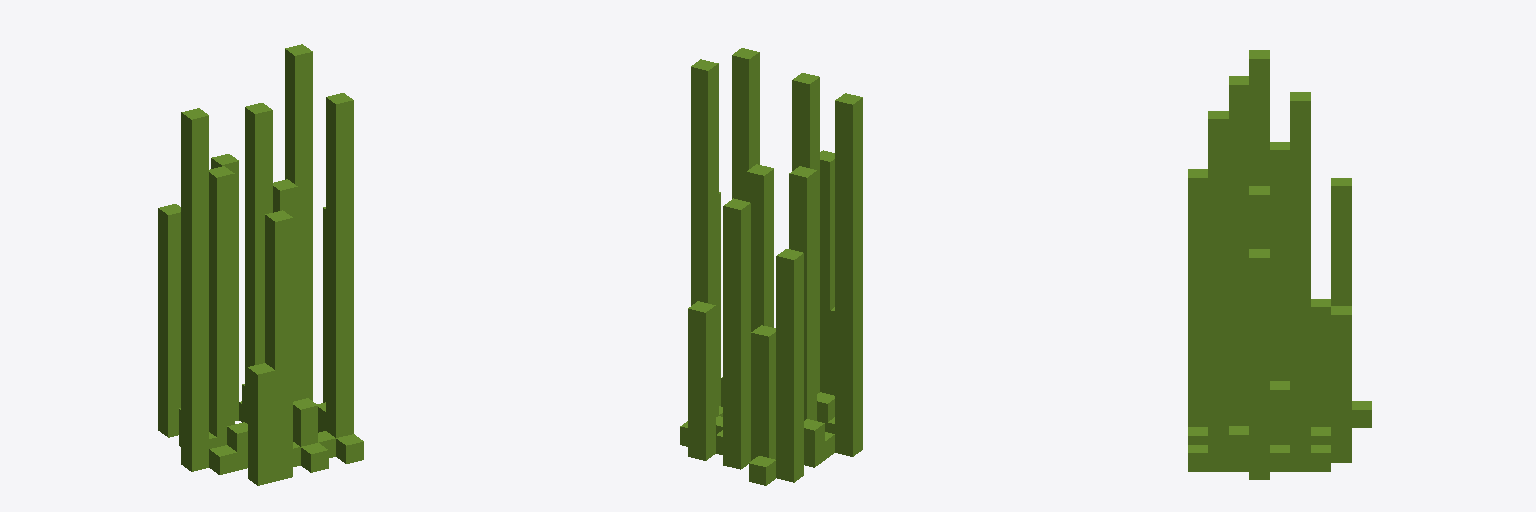
3 views of the same model, side by side, from view 1: azimuth 30°, elevation 25°; view 2: azimuth 150°, elevation 25°; view 3: azimuth 270°, elevation 25° (orthographic).
Parts seen in each view (by area): view 1: TallGrass; view 2: TallGrass; view 3: TallGrass.
Part boxes in pixels (x1,y1,x2,y2): TallGrass: (158,44,363,485); TallGrass: (680,48,862,485); TallGrass: (1188,50,1371,479).
Size of the model in its own units: 9 by 20 by 9.
1 materials, 1 textured.